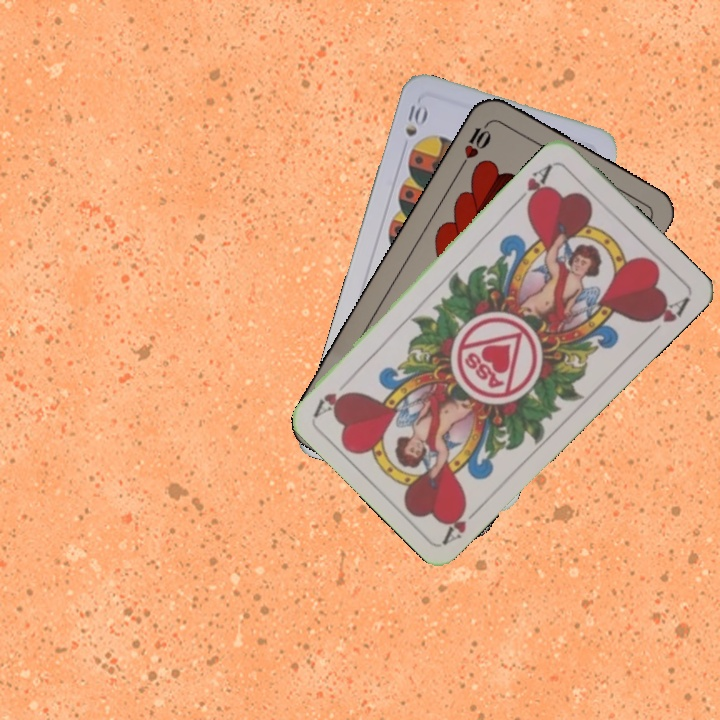H10: (456, 117, 494, 171)
HA: (512, 159, 557, 212), (439, 499, 487, 546)
S10: (401, 98, 430, 140)
